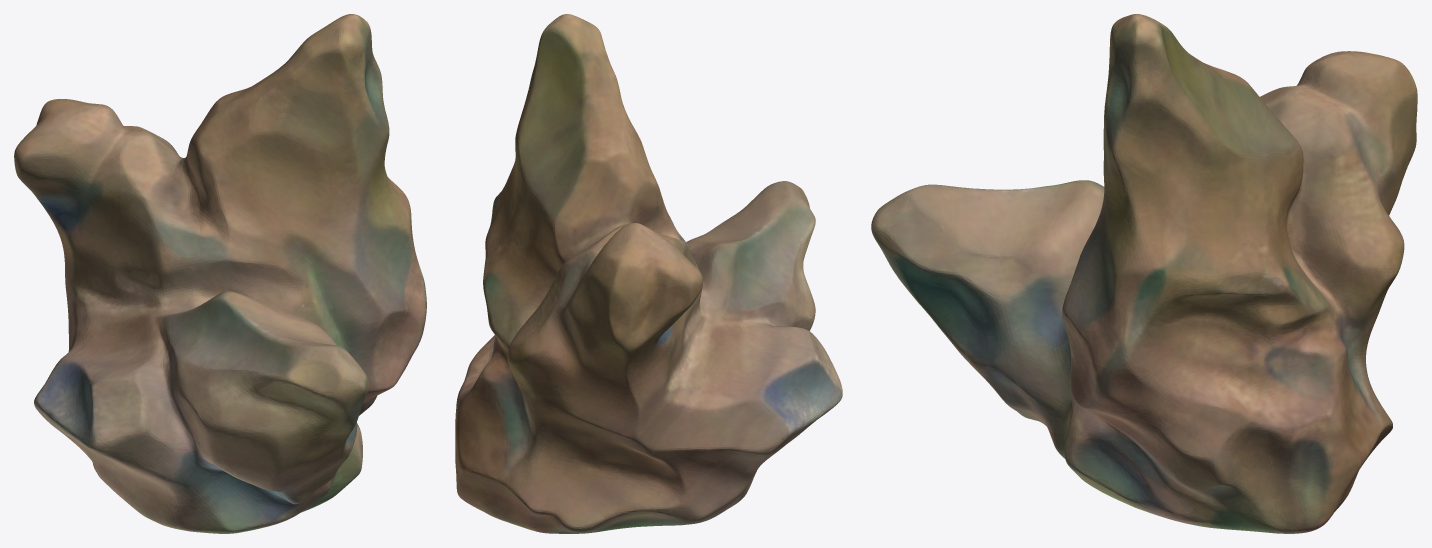
The model's file is rock1.fbx.
The picture shows the model from 3 angles, left to right: view 1: azimuth 30°, elevation 25°; view 2: azimuth 150°, elevation 25°; view 3: azimuth 270°, elevation 25°; orthographic projection. The views are drawn at different scales.
Parts seen in each view (by area): view 1: OK1_Mesh; view 2: OK1_Mesh; view 3: OK1_Mesh.
Boxes of the visible parts, x1,y1,x2,y2 form: OK1_Mesh: (14, 14, 426, 533); OK1_Mesh: (455, 14, 842, 533); OK1_Mesh: (871, 14, 1417, 533).
Size of the model in its own units: 65.19 by 87.22 by 82.84.
Materials: 1 (1 with a texture image).
